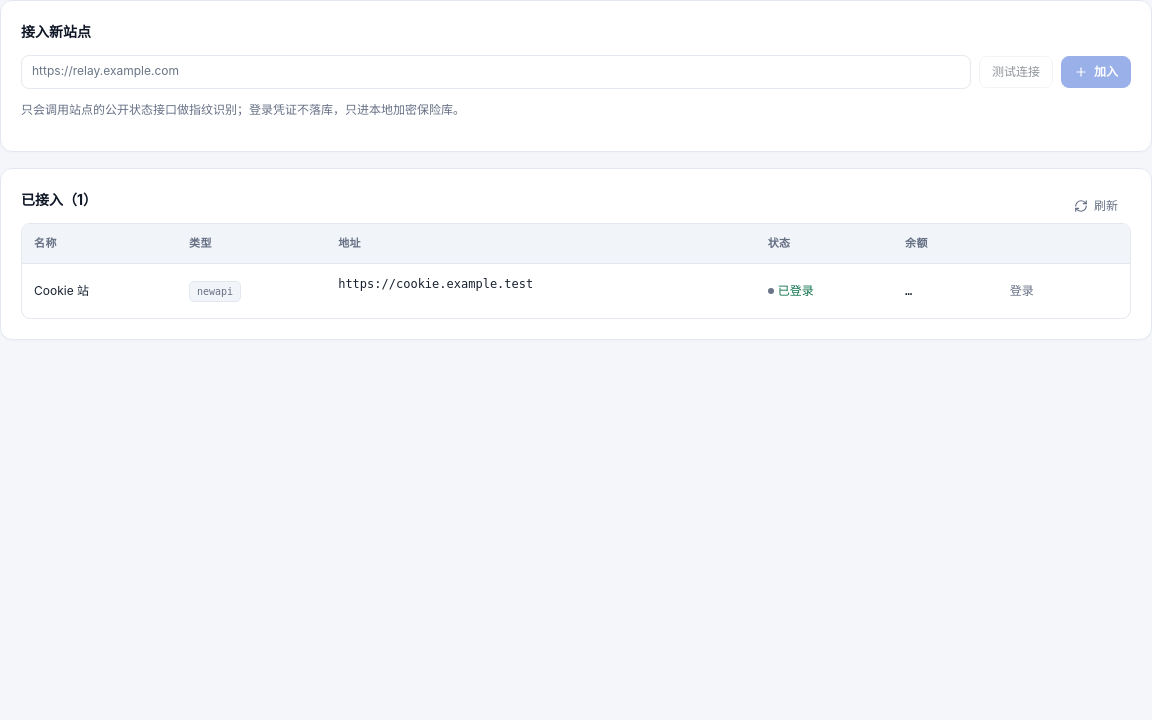
Test: Sites 的人工验证面板（M28-S2：三态来自能力表） › cookie 站点：渲染自动文案与「手动接入」，并自动打开一次验证窗口
The width and height of the screenshot is (1152, 720).
Click the button "登录" at coordinates (1022, 291), box left=997, top=275, right=1047, bottom=307
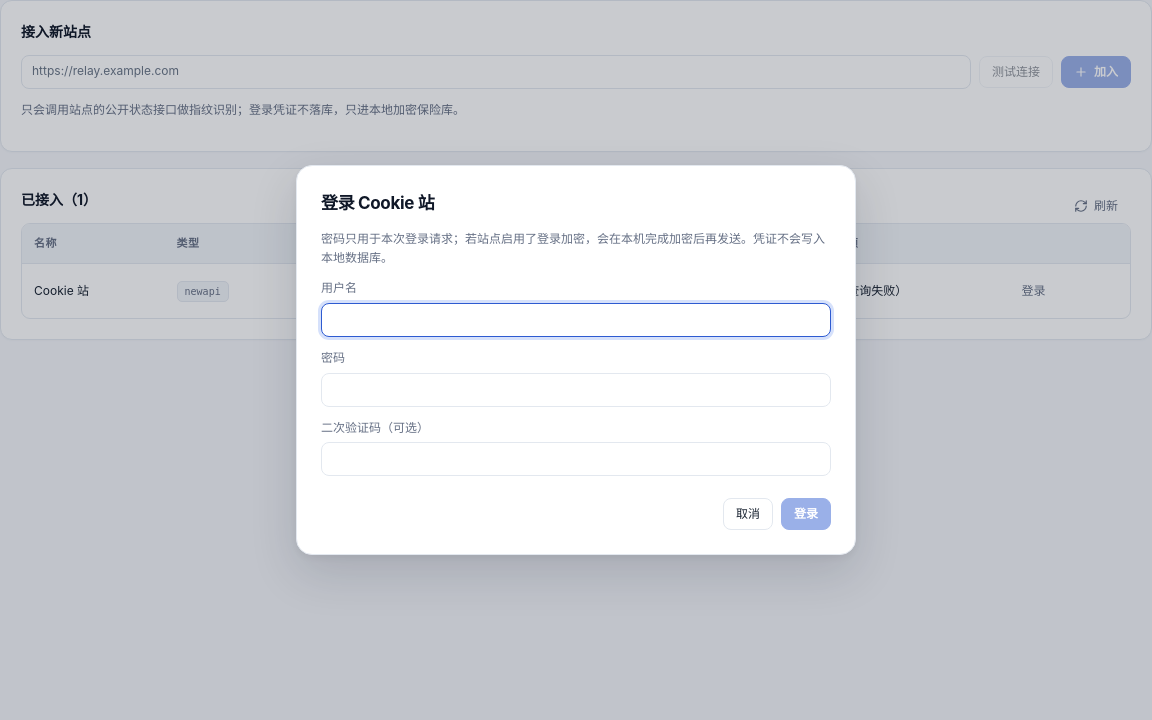
Type "me@example.test" into the field labelled "用户名" at coordinates (576, 320), box left=321, top=303, right=831, bottom=337
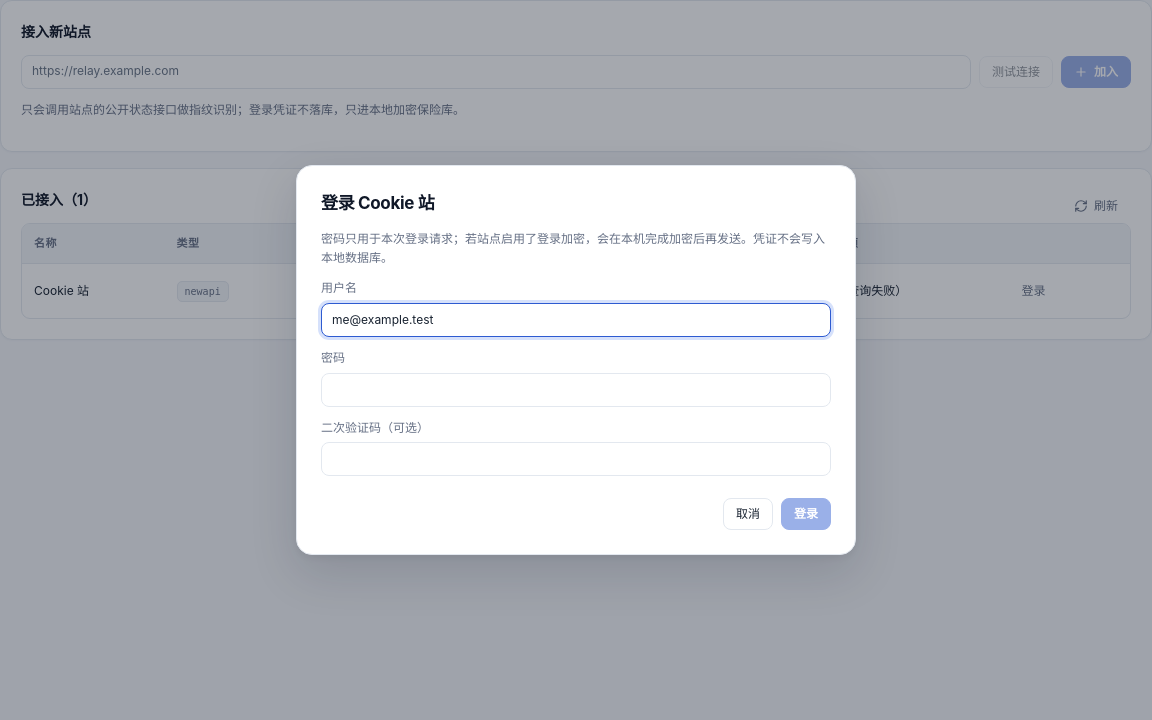
Type "pw-12345678" into the password field labelled "密码" at coordinates (576, 390), box left=321, top=373, right=831, bottom=407
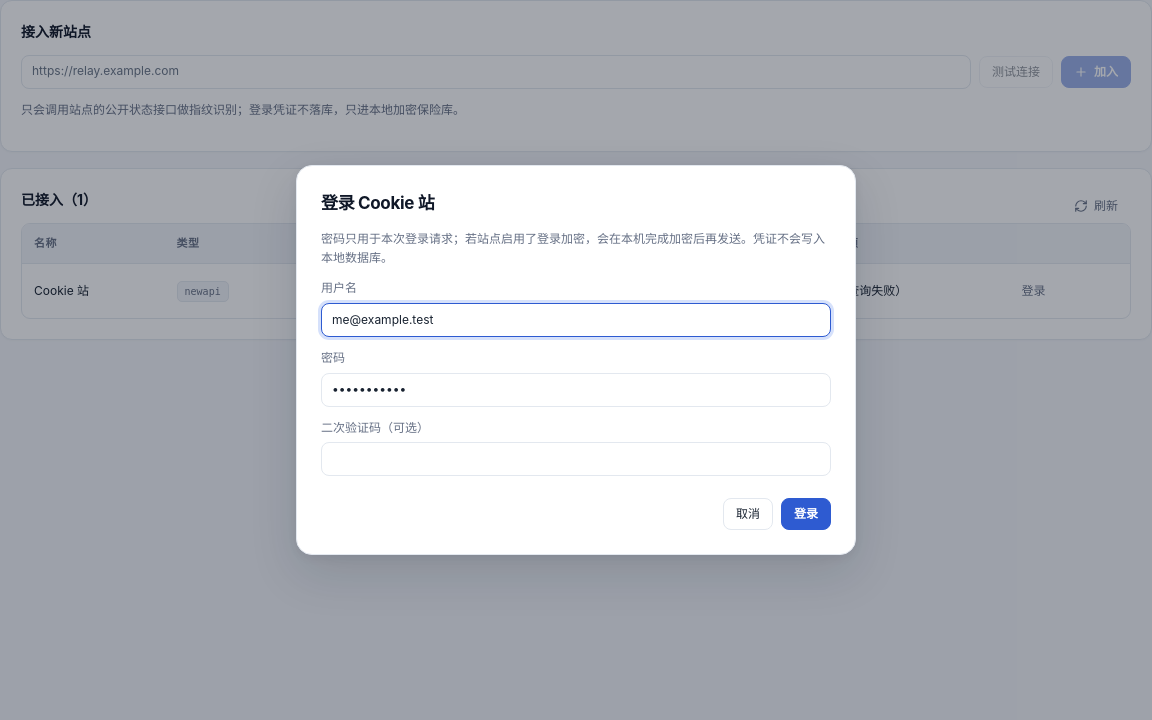
Click the button "登录" at coordinates (806, 514), box left=781, top=498, right=831, bottom=530
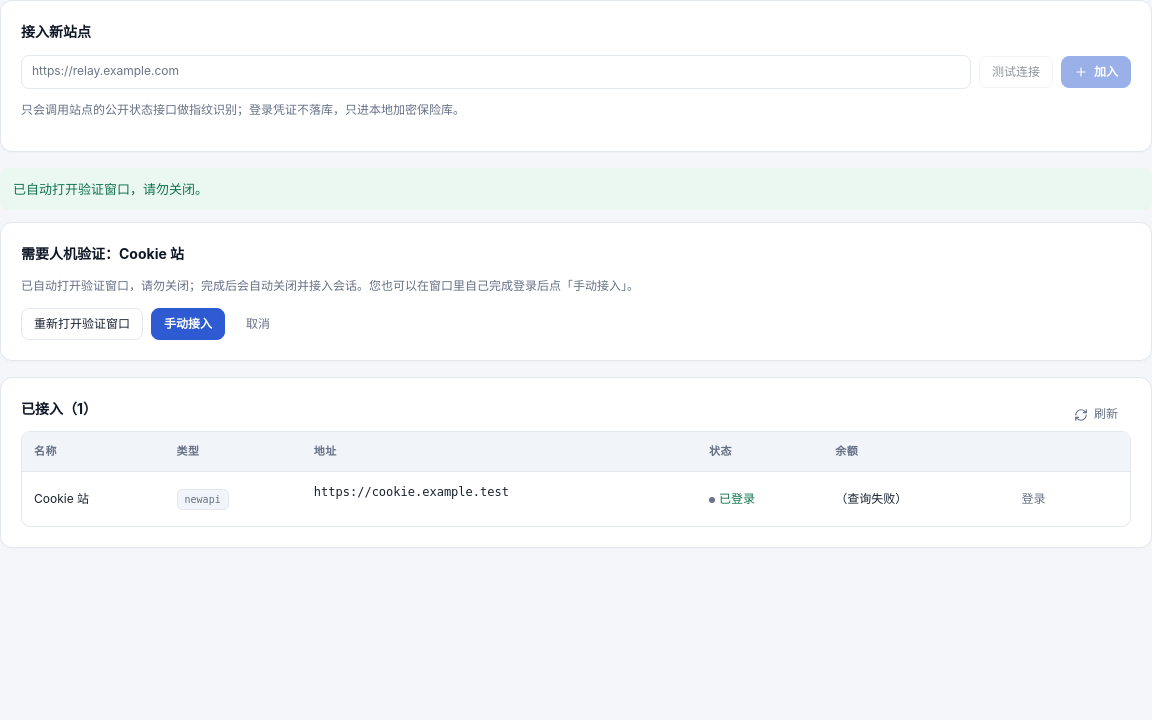
expect the text "已自动打开验证窗口，请勿关闭；完成后会自动关闭并接入会话。您也可以在窗口里自己完成登录后点「手动接入」。" is shown: met, box left=21, top=278, right=639, bottom=293
expect the button "手动接入" is shown: met, box left=151, top=308, right=225, bottom=340
expect the button "重新打开验证窗口" is shown: met, box left=21, top=308, right=143, bottom=340
